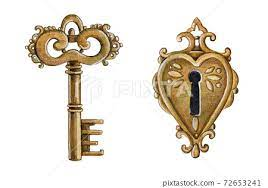key: (17, 12, 127, 165)
